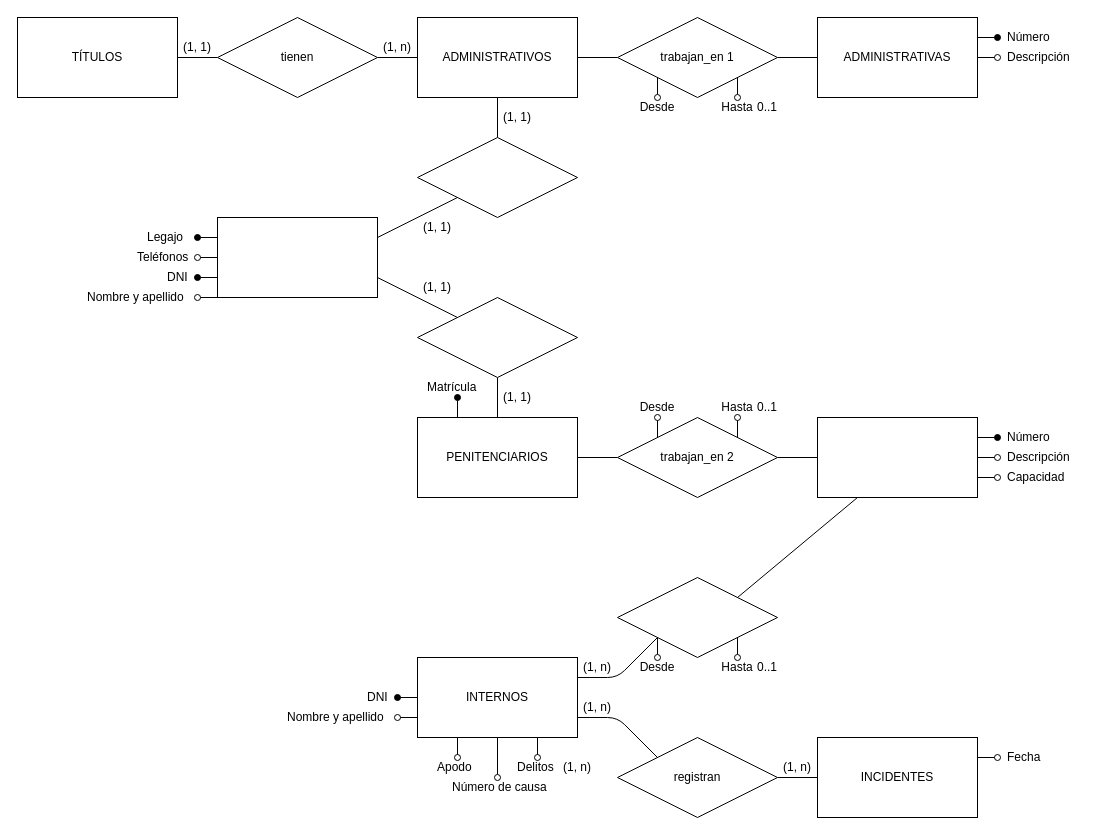
The diagram is 1095 pixels wide and 835 high, and some of its shapes have lost their labels. The centre of each missing label's shape, as x and y in pixels:
"EMPLEADOS" goes at (x=297, y=257).
"es_un 1" goes at (x=497, y=177).
"es_un 2" goes at (x=497, y=337).
"PABELLONES" goes at (x=897, y=457).
"reciden_en" goes at (x=697, y=617).
